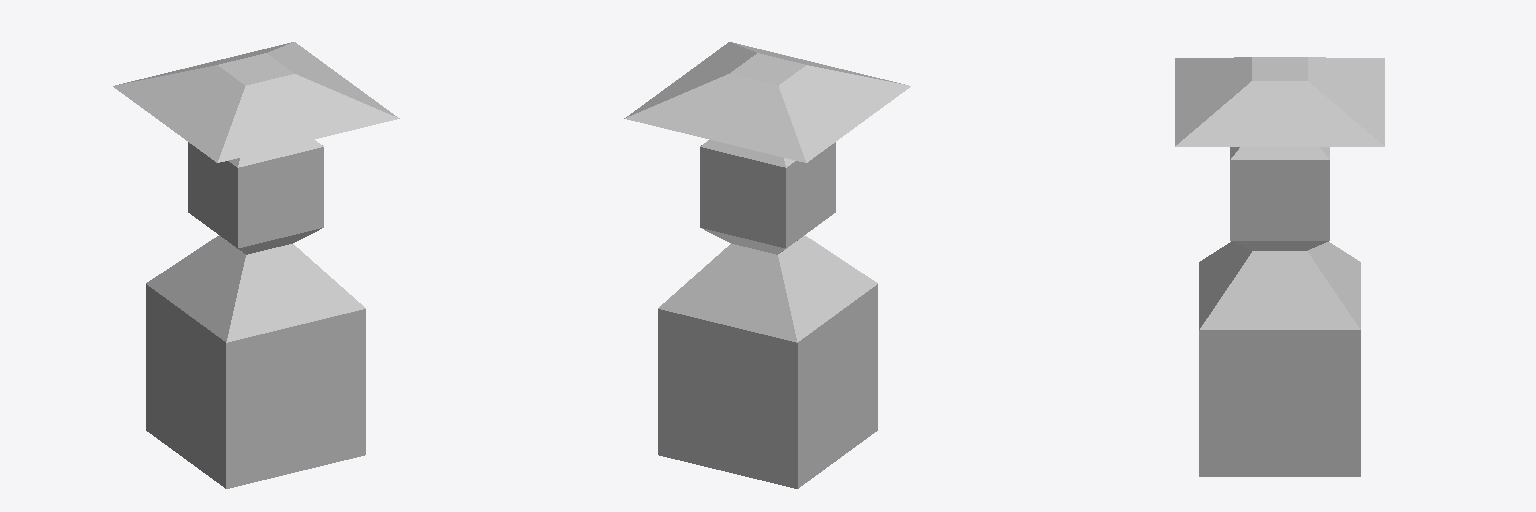
File: professor.obj
3 views of the same model, side by side, from view 1: azimuth 30°, elevation 25°; view 2: azimuth 150°, elevation 25°; view 3: azimuth 270°, elevation 25° (orthographic).
Visible parts, largest first — view 1: Cube; view 2: Cube; view 3: Cube.
Boxes of the visible parts, x1,y1,x2,y2 form: Cube: [113, 42, 399, 488]; Cube: [624, 42, 910, 488]; Cube: [1175, 57, 1384, 476].
Bounding box in the file's own units: 1.3 × 2.55 × 1.3.